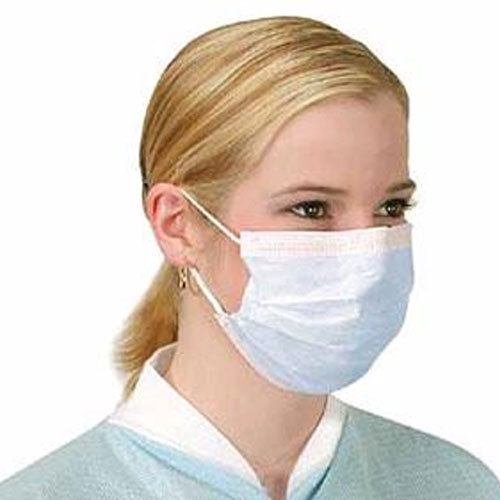mask: (232, 231, 430, 394)
